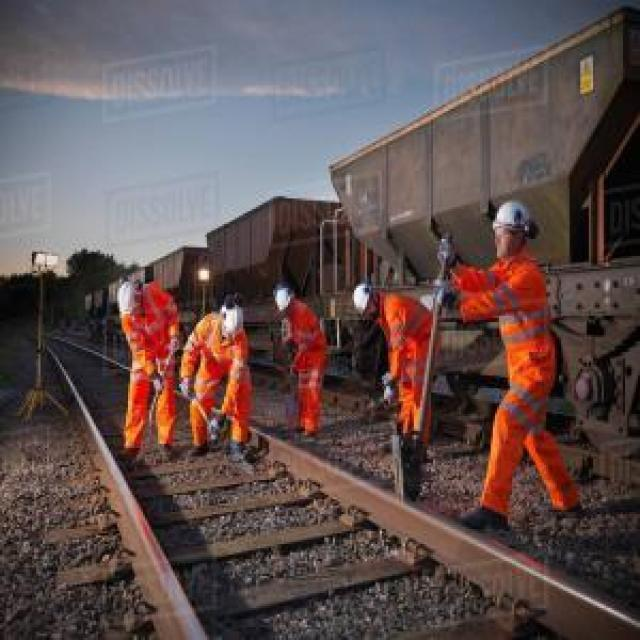rail: (30, 327, 640, 636)
